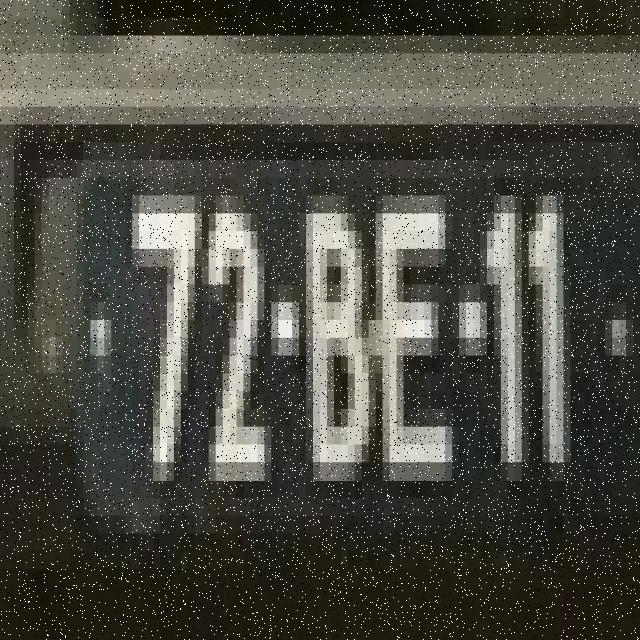licenseplate: (79, 117, 639, 562)
